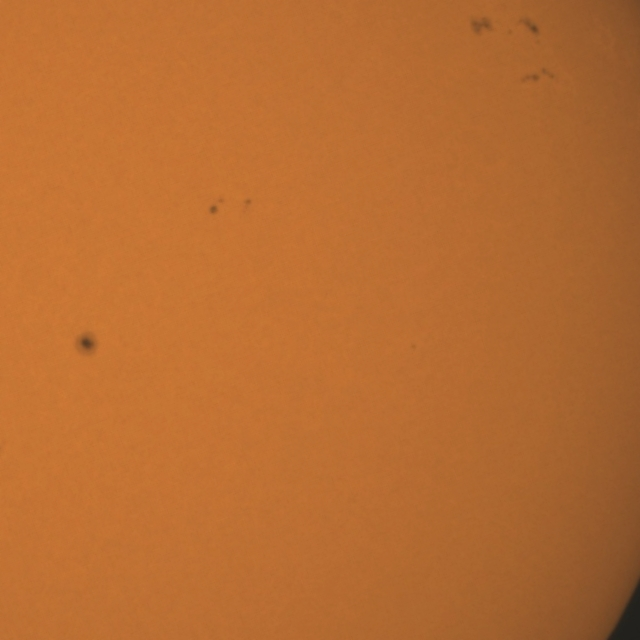sunspot: (506, 17, 541, 41), (74, 331, 99, 358), (519, 67, 556, 85), (468, 15, 494, 37), (208, 195, 227, 216), (243, 197, 253, 208), (409, 342, 418, 352)
